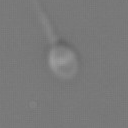normal: (29, 1, 58, 44)
